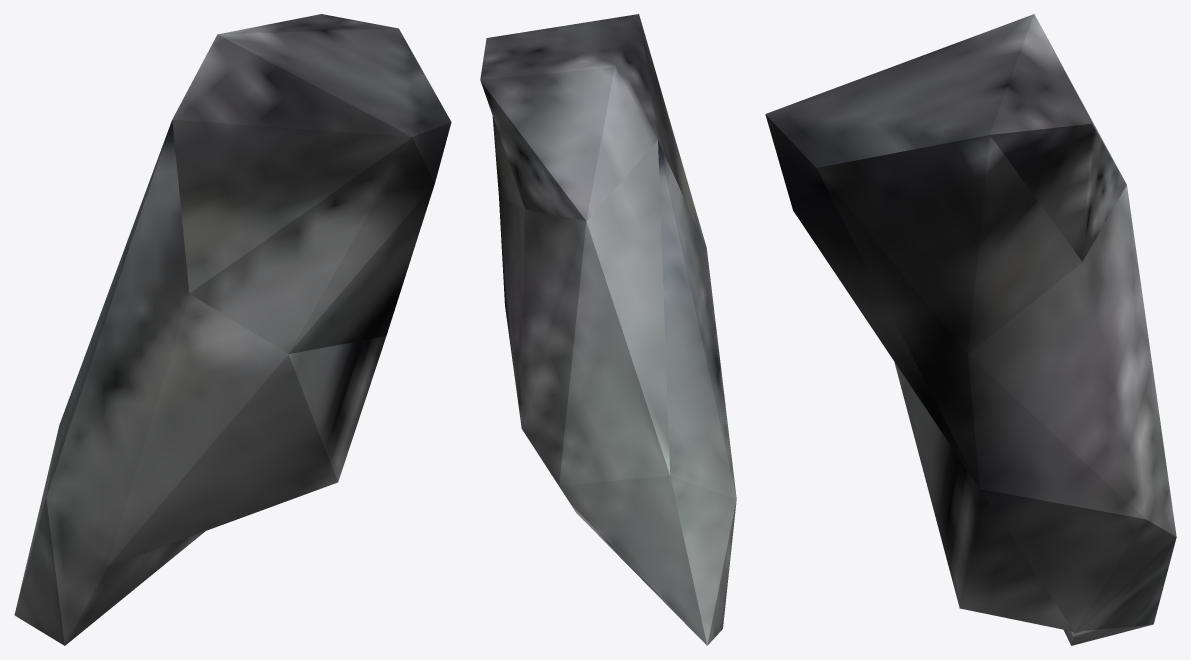
3 views of the same model, side by side, from view 1: azimuth 30°, elevation 25°; view 2: azimuth 150°, elevation 25°; view 3: azimuth 270°, elevation 25° (orthographic). The views are drawn at different scales.
Size of the model in its own units: 0.065 by 0.1153 by 0.0603.
1 material, 1 textured.
